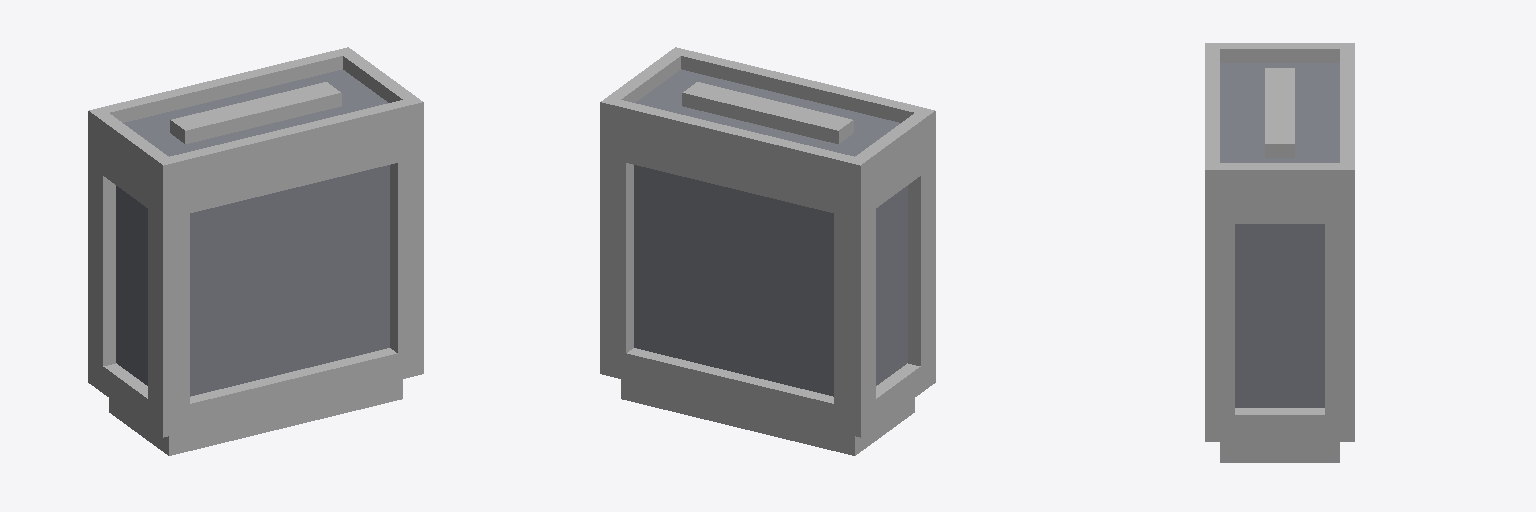
The model's file is low_wideB.obj.
3 views of the same model, side by side, from view 1: azimuth 30°, elevation 25°; view 2: azimuth 150°, elevation 25°; view 3: azimuth 270°, elevation 25° (orthographic).
Visible parts, largest first — view 1: low_wideB; view 2: low_wideB; view 3: low_wideB.
Part boxes in pixels (x1,y1,x2,y2): low_wideB: (88,47,423,455); low_wideB: (600,47,935,455); low_wideB: (1205,43,1354,462).
Size of the model in its own units: 1 by 1.1 by 0.5.